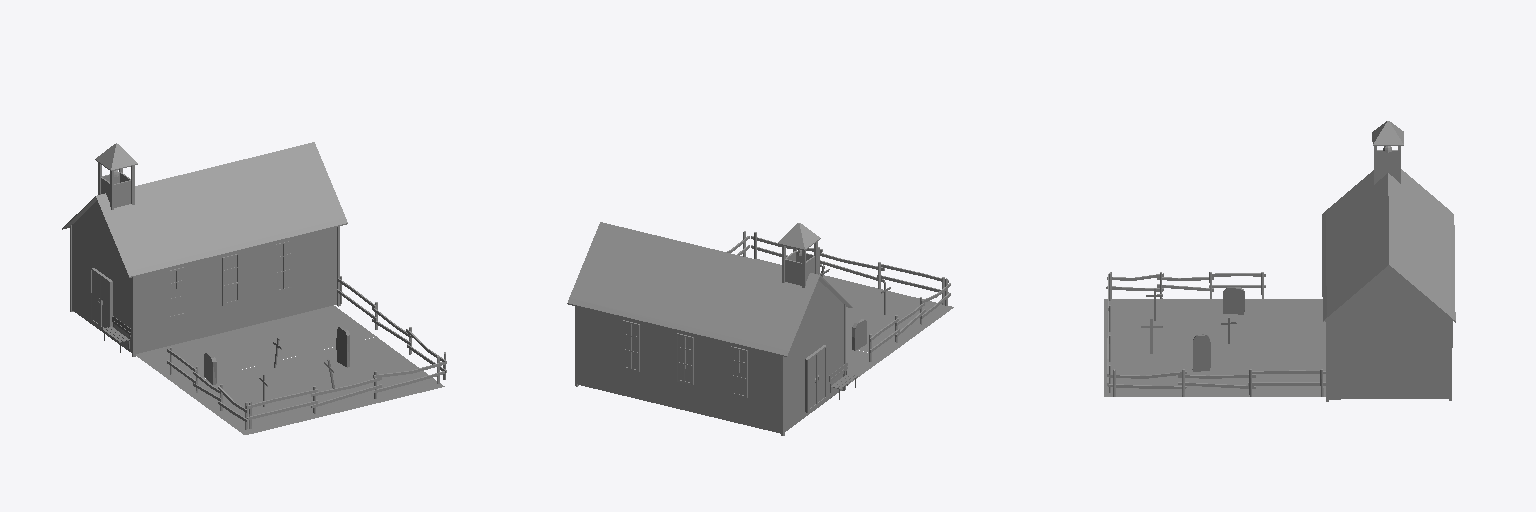
The model's file is church.obj.
3 views of the same model, side by side, from view 1: azimuth 30°, elevation 25°; view 2: azimuth 150°, elevation 25°; view 3: azimuth 270°, elevation 25° (orthographic).
Parts seen in each view (by area): view 1: west_town_finish, Plane005, Plane004, Plane002, Plane008, Plane001, Plane009, Plane003, Plane006, Plane007, Plane010, Plane011 (+1 smaller); view 2: west_town_finish, Plane009, Plane008, Plane006, Plane007; view 3: west_town_finish, Plane004, Plane006, Plane007, Plane009, Plane008, Plane005, Plane003, Plane001, Plane002, Plane011, Plane012.
Boxes of the visible parts, x1=… form: west_town_finish: x1=62, y1=142, x2=446, y2=429; Plane005: x1=243, y1=353, x2=342, y2=393; Plane004: x1=216, y1=328, x2=308, y2=368; Plane002: x1=310, y1=337, x2=409, y2=377; Plane008: x1=177, y1=370, x2=276, y2=409; Plane001: x1=282, y1=312, x2=376, y2=352; Plane009: x1=211, y1=394, x2=310, y2=434; Plane003: x1=344, y1=362, x2=444, y2=402; Plane006: x1=278, y1=378, x2=376, y2=418; Plane007: x1=144, y1=346, x2=242, y2=384; Plane010: x1=268, y1=305, x2=341, y2=331; Plane011: x1=200, y1=322, x2=274, y2=348; west_town_finish: x1=567, y1=222, x2=950, y2=435; Plane009: x1=854, y1=291, x2=953, y2=331; Plane008: x1=846, y1=316, x2=919, y2=356; Plane006: x1=823, y1=275, x2=887, y2=315; Plane007: x1=846, y1=347, x2=885, y2=381; west_town_finish: x1=1106, y1=121, x2=1455, y2=401; Plane004: x1=1241, y1=331, x2=1309, y2=363; Plane006: x1=1104, y1=331, x2=1172, y2=363; Plane007: x1=1241, y1=299, x2=1309, y2=330; Plane009: x1=1104, y1=299, x2=1172, y2=330; Plane008: x1=1173, y1=299, x2=1240, y2=330; Plane005: x1=1173, y1=331, x2=1240, y2=363; Plane003: x1=1104, y1=364, x2=1172, y2=396; Plane001: x1=1241, y1=364, x2=1309, y2=396; Plane002: x1=1173, y1=364, x2=1240, y2=396; Plane011: x1=1297, y1=331, x2=1325, y2=363; Plane012: x1=1297, y1=299, x2=1325, y2=330.
Size of the model in its own units: 0.6127 by 0.4807 by 0.8212.